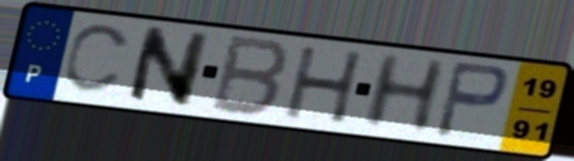B: (206, 32, 295, 120)
C: (59, 22, 136, 97)
H: (357, 51, 452, 134), (282, 45, 367, 126)
N: (122, 23, 214, 110)
P: (431, 59, 512, 142)
